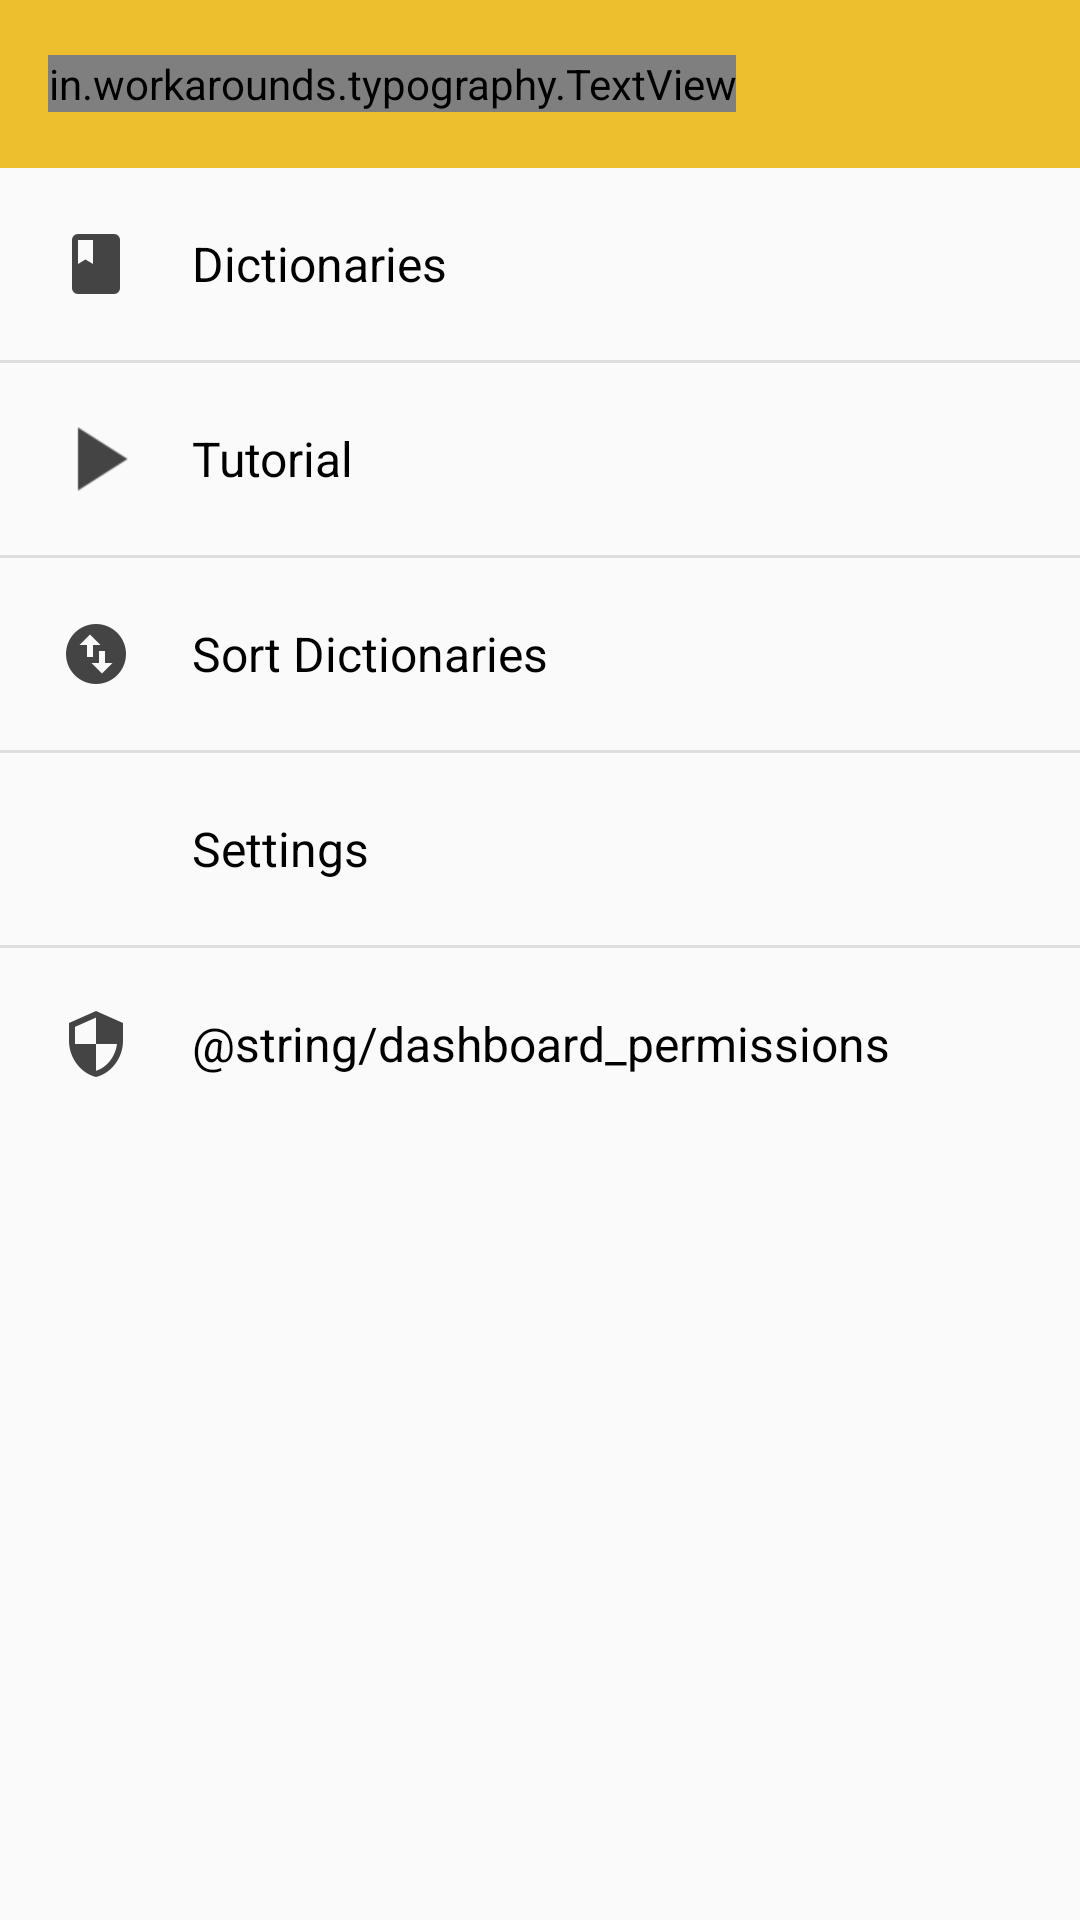

Named icons in this screenshot (1080*1920) and their bounding boxes, (x1, y1, x2, y2):
book: (72, 234, 120, 294)
play arrow: (77, 427, 128, 491)
security: (69, 1011, 123, 1077)
swap vert circle: (66, 624, 126, 684)
